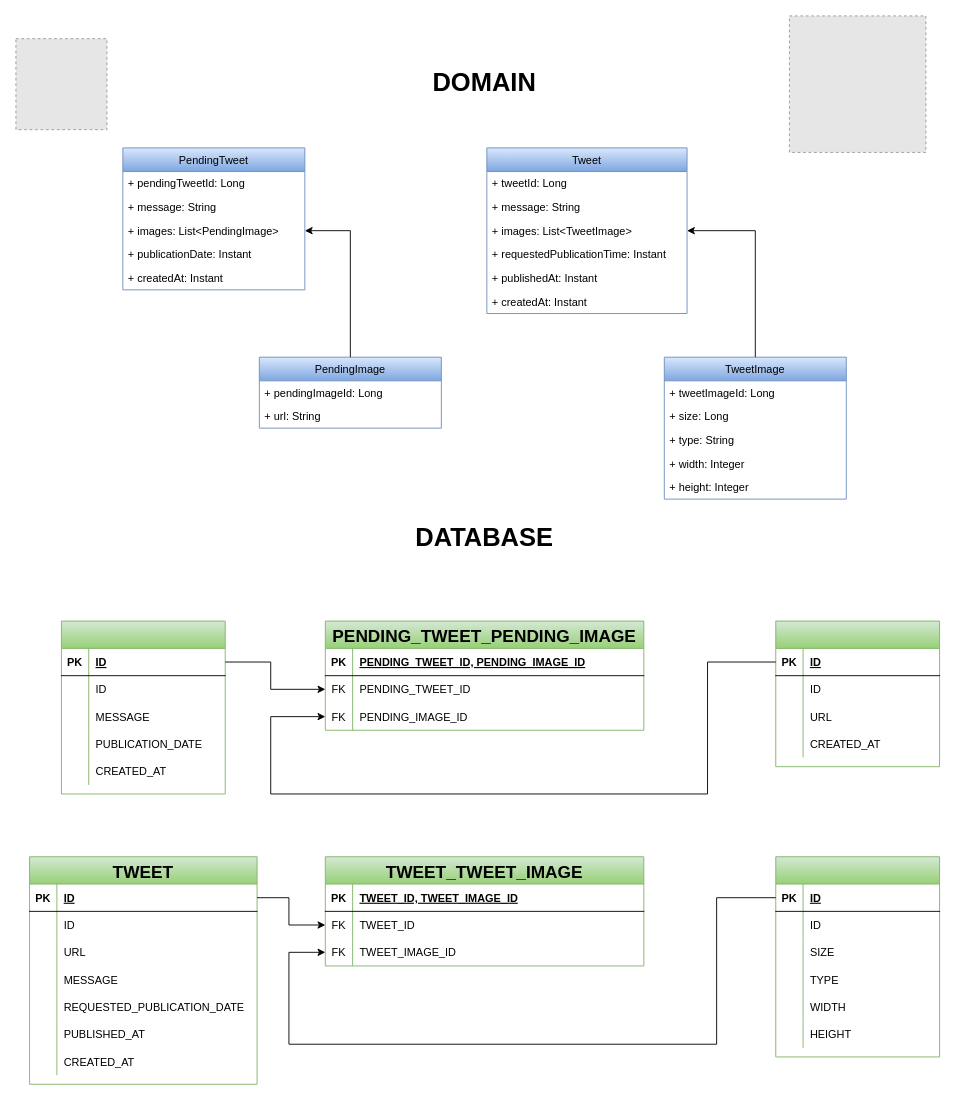
Image size: 956x1100. Some labels were removed from this diagram. Grey dashed boxes stand in for pictures. Each missing label, with the box of its shape:
PENDING_IMAGE: (775, 620, 940, 767)
PENDING_TWEET: (61, 620, 225, 794)
TWEET_IMAGE: (775, 856, 940, 1057)
